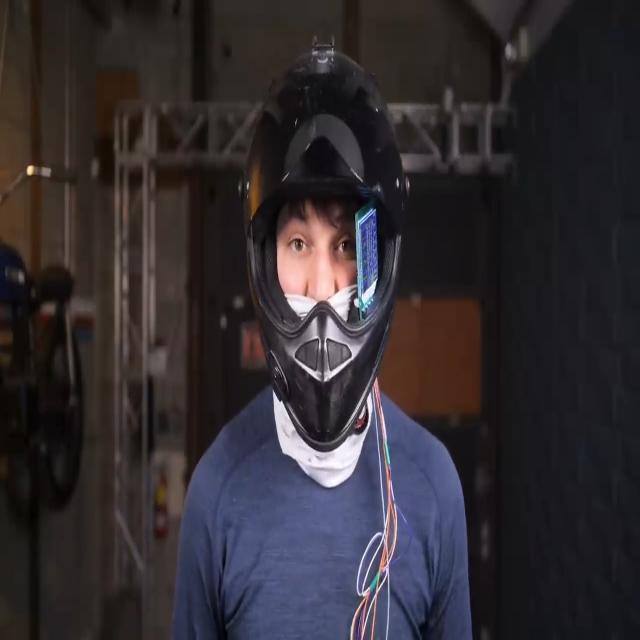Helmet_Wearer: (238, 37, 406, 414)
Person: (167, 24, 467, 640)
